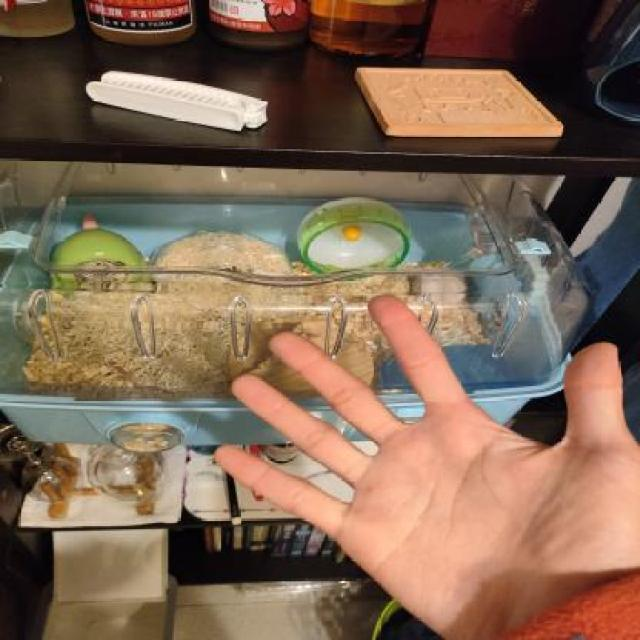bare_hand: (204, 284, 638, 638)
